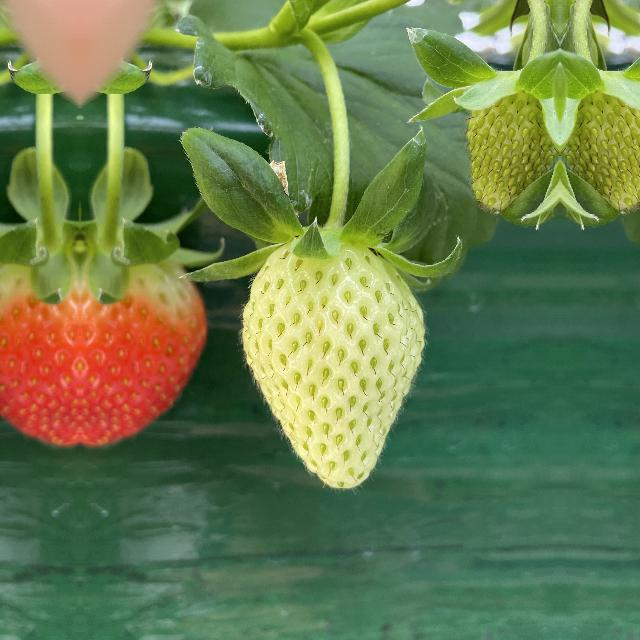Health_100: (80, 240, 214, 450), (0, 240, 80, 449)
Health_25: (238, 211, 440, 495), (464, 80, 560, 212), (560, 79, 640, 212)
